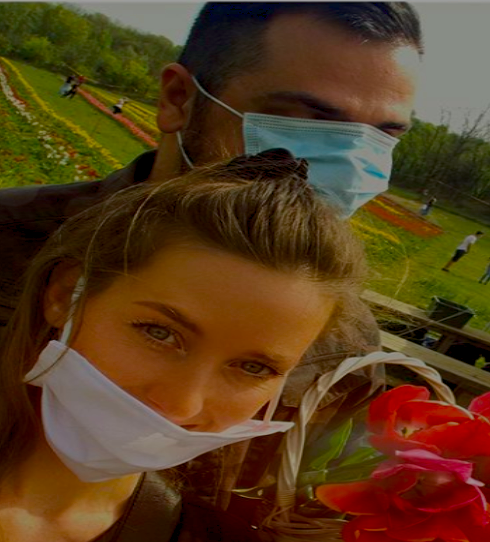mask_weared_incorrect: (30, 190, 339, 482), (156, 2, 433, 224)
